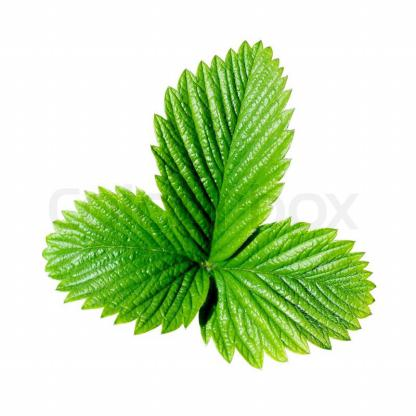strawberry leaf: (157, 29, 297, 260), (200, 217, 375, 371), (33, 185, 209, 338)
